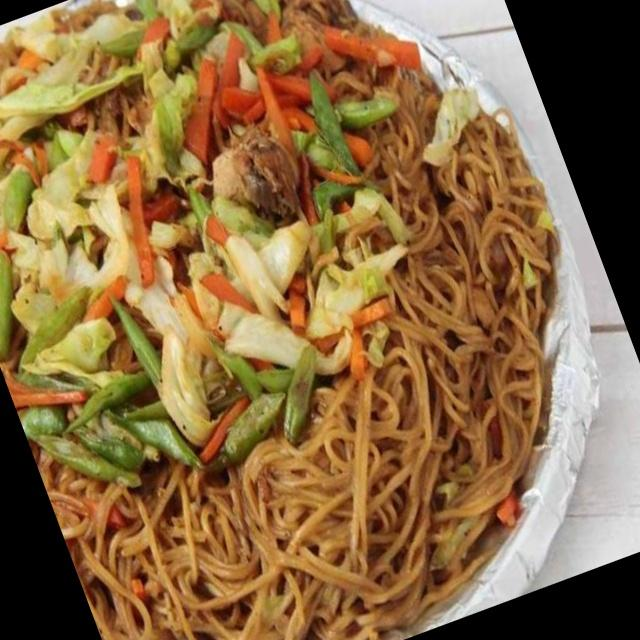pancit bihon: (0, 0, 549, 639)
